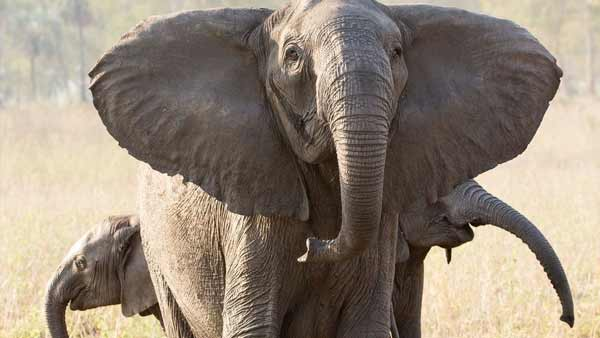Elephant: (82, 5, 563, 335)
